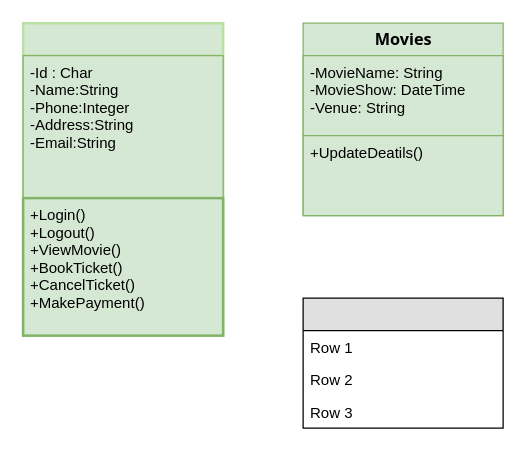
The diagram is 525 pixels wide and 453 high, and some of its shapes have lost their labels. The box of each missing label's shape, as (x1, y1, x2, y2) in pixels:
Registered User: (21, 21, 224, 336)
Table: (302, 297, 503, 428)
